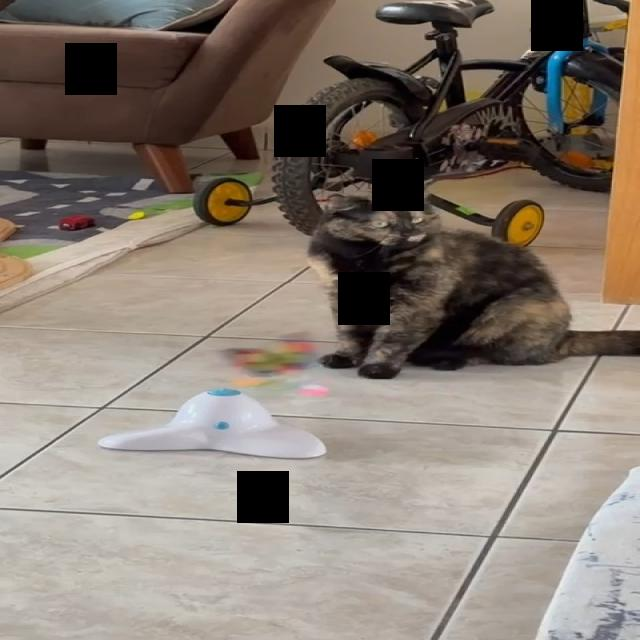authorized: (304, 177, 639, 379)
